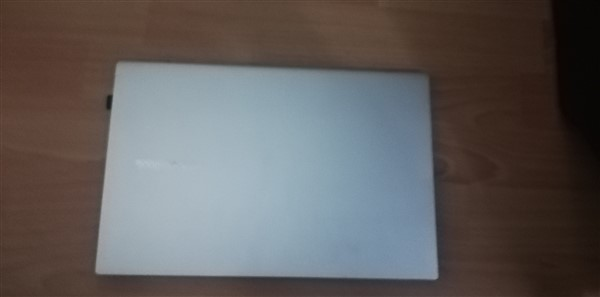laptop: (91, 49, 448, 283)
